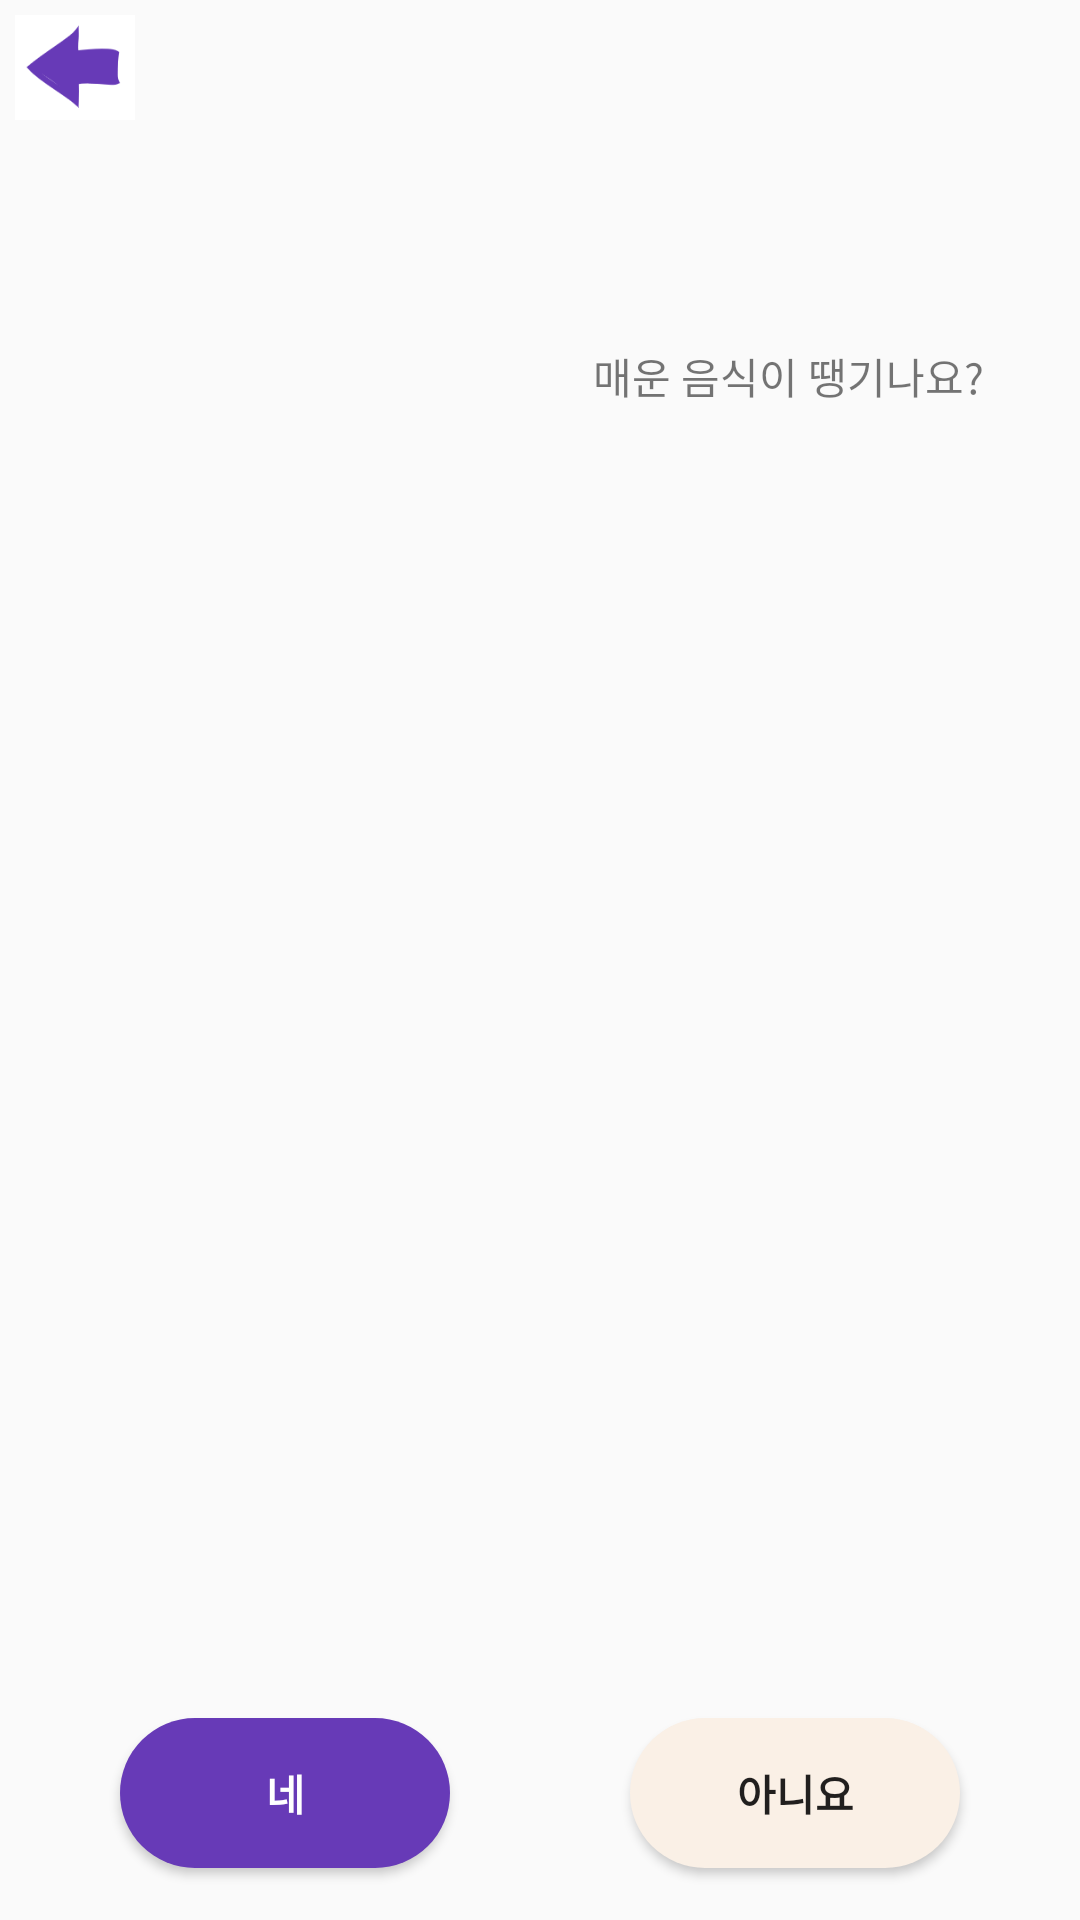

Icons on this 1080x1920 Android screen, each with the point to tap as point (x, y):
back: point (73, 66)
